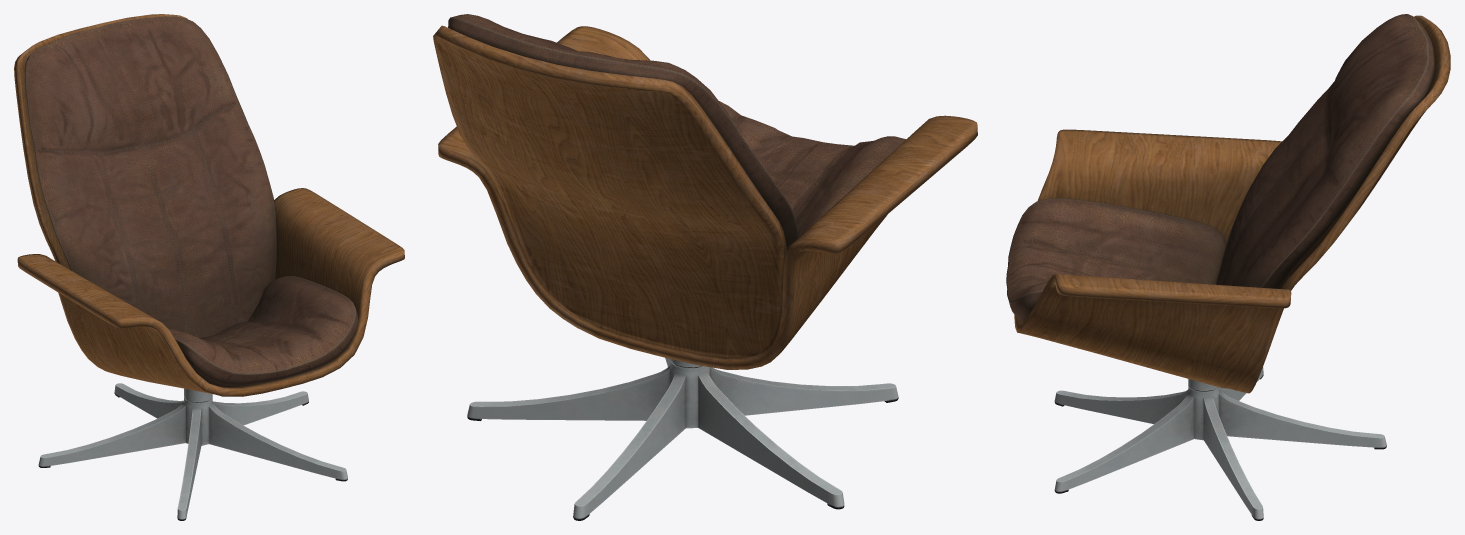
Rendered from MidCenturyLoungeChair.obj.
3 renders of one model, left to right at view 1: azimuth 30°, elevation 25°; view 2: azimuth 150°, elevation 25°; view 3: azimuth 270°, elevation 25°, orthographic. The views are drawn at different scales.
Visible parts, largest first — view 1: mid_century_lounge_chair; view 2: mid_century_lounge_chair; view 3: mid_century_lounge_chair.
Part boxes in pixels (left/top/right/bottom): mid_century_lounge_chair: left=14, top=14, right=404, bottom=520; mid_century_lounge_chair: left=433, top=14, right=977, bottom=520; mid_century_lounge_chair: left=1006, top=14, right=1450, bottom=520.
Bounding box in the file's own units: 1.01 × 1.17 × 1.19.
